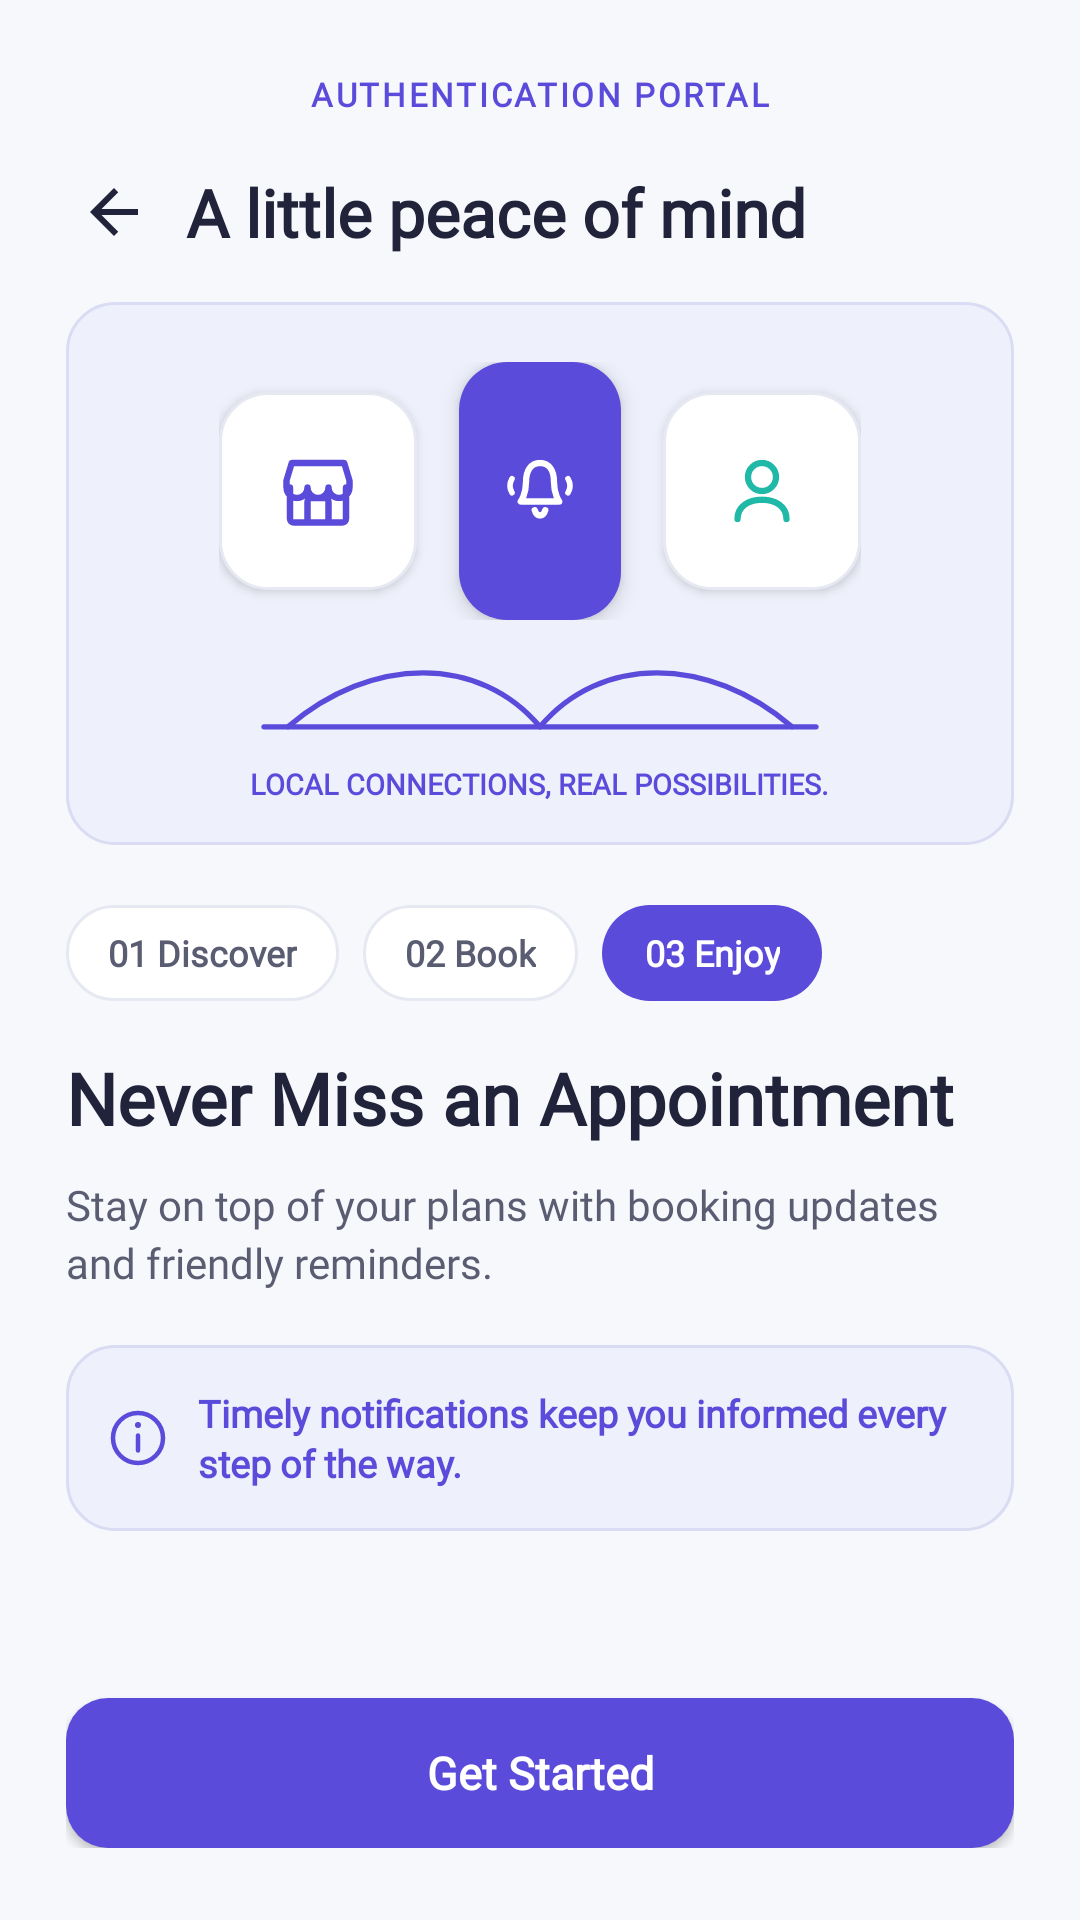

Screen size 1080 × 1920. Icon name, then its center in pixels as (x,y):
Back: (114,212)
Ringing Bell: (540,489)
Storefront: (318,492)
User: (762,491)
